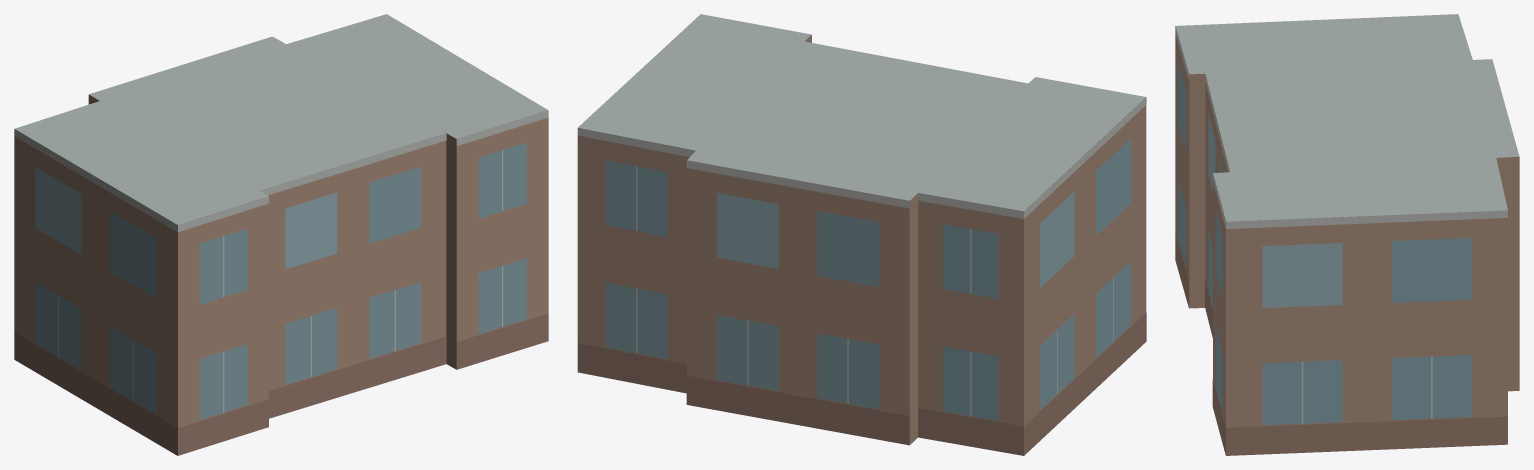
The model's file is survey-upis-32981458.glb.
3 views of the same model, side by side, from view 1: azimuth 30°, elevation 25°; view 2: azimuth 150°, elevation 25°; view 3: azimuth 270°, elevation 25° (orthographic). The views are drawn at different scales.
Parts seen in each view (by area): view 1: survey-upis-32981458.tmp; view 2: survey-upis-32981458.tmp; view 3: survey-upis-32981458.tmp.
Boxes of the visible parts, box(x1,y1,x2,y2) form: survey-upis-32981458.tmp: box(14, 14, 548, 455); survey-upis-32981458.tmp: box(577, 14, 1146, 455); survey-upis-32981458.tmp: box(1175, 14, 1519, 455).
Bounding box in the file's own units: 14.66 × 7.7 × 10.27.
